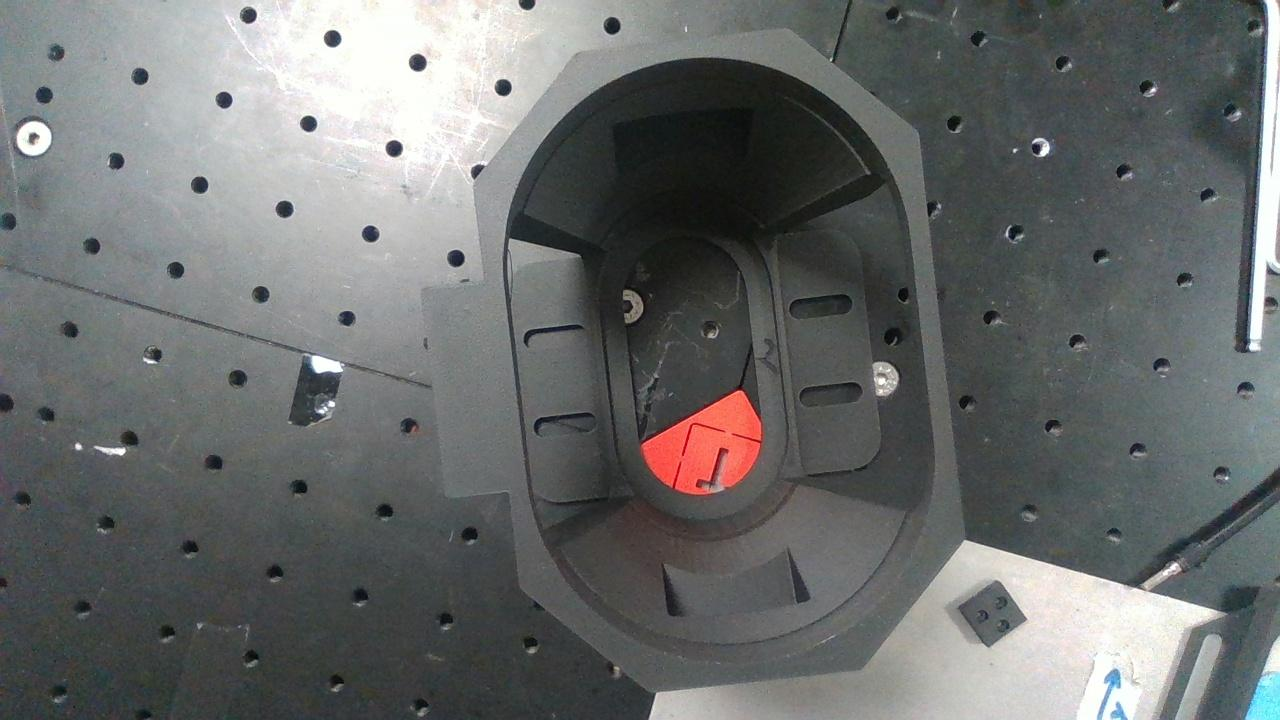big_interface: (472, 27, 967, 693)
